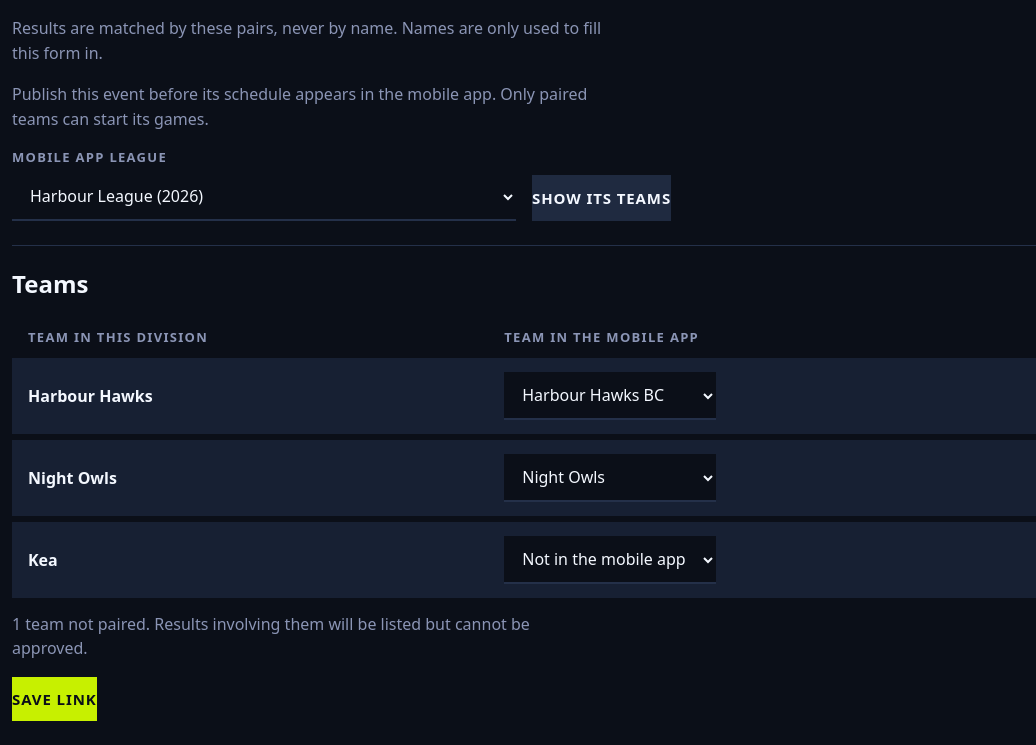
it: LinkView (M-03) › shows a refusal from the server, and says so when the server cannot be reached
(page scrolled)
Click the button "Save link".
click(54, 699)  # box [12,677,97,721]
(page scrolled)
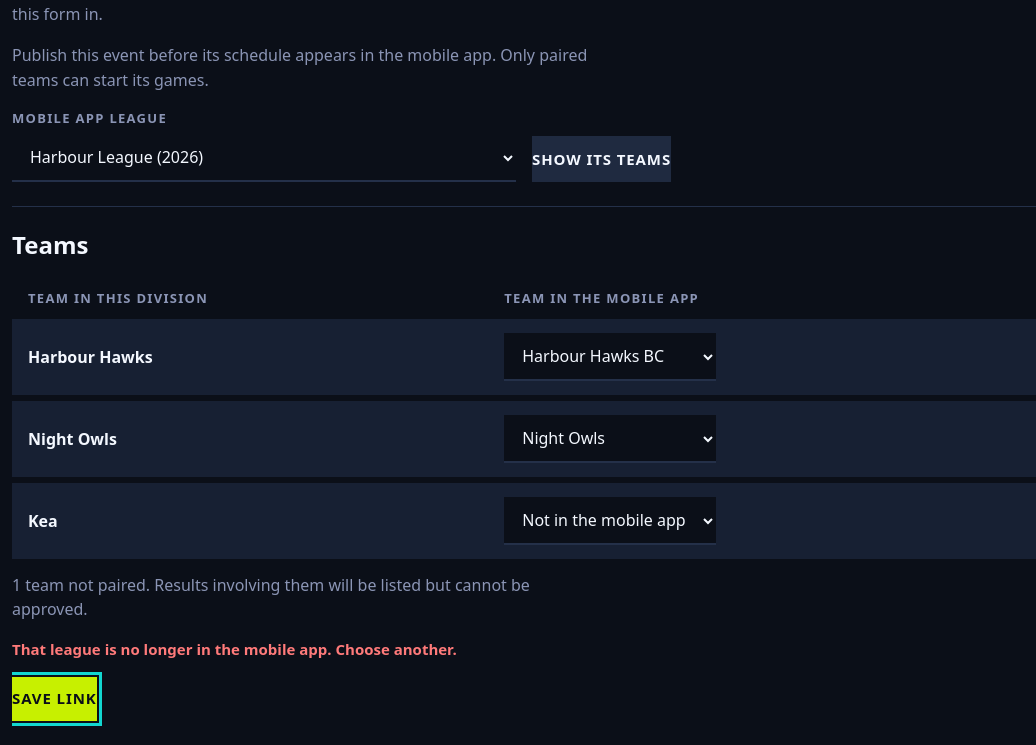
Expected: the message reads "That league is no longer in the mobile app. Choose another.", [12,639,457,659]
Click the button "Save link".
click(54, 699)  # box [12,677,97,721]
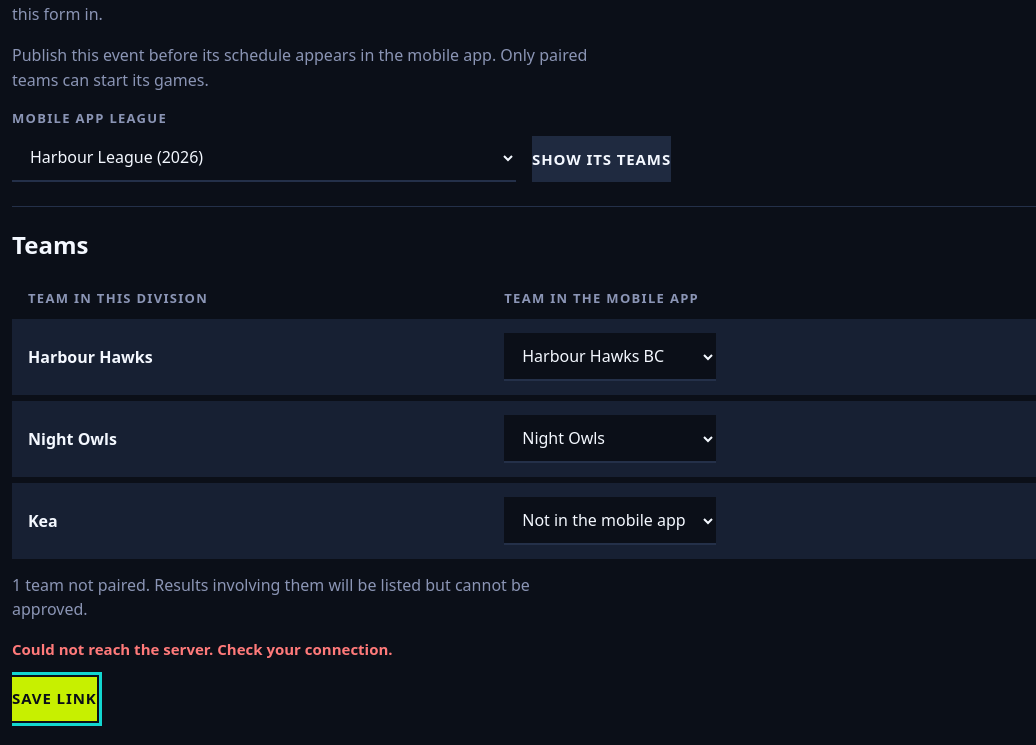
Expected: the message reads "Could not reach the server. Check your connection.", [12,639,393,659]
